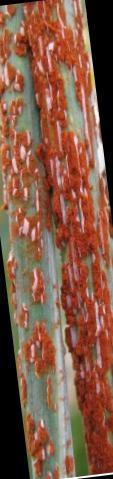Wheat: (0, 10, 101, 175), (9, 184, 110, 331)
